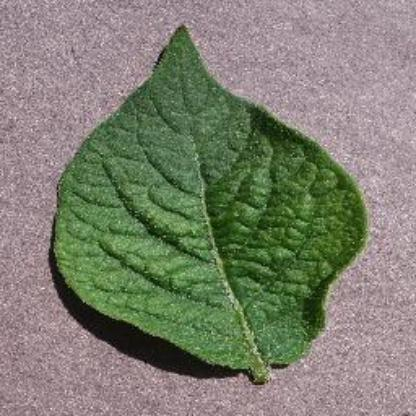Healthy-plant: (42, 22, 374, 394)
